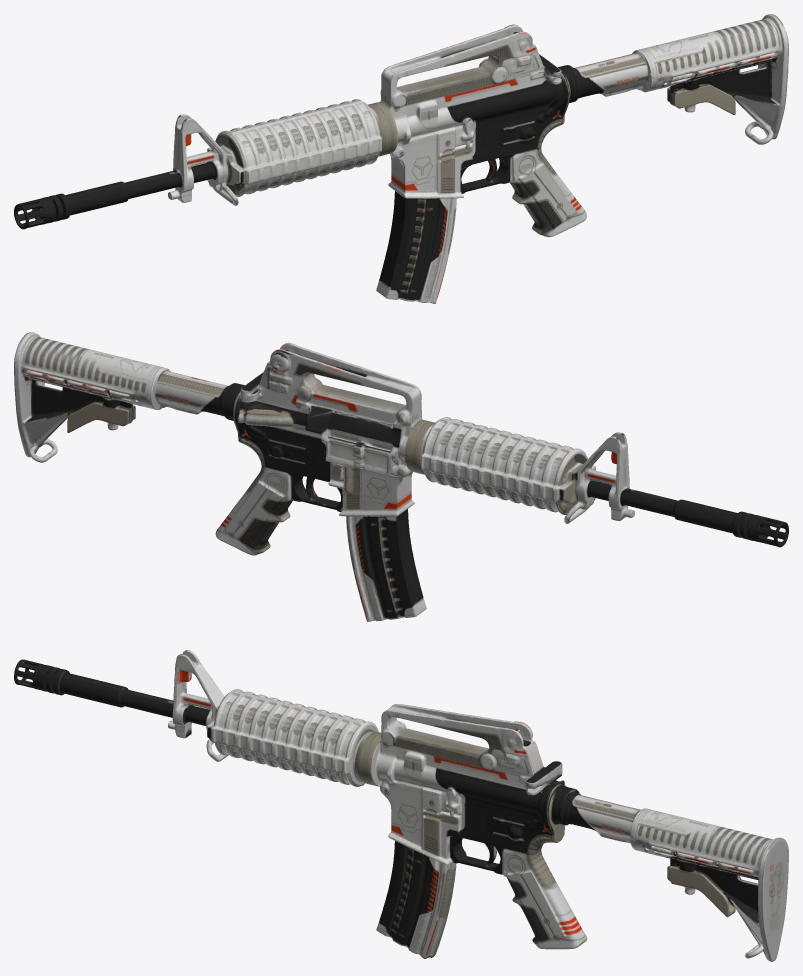
The model's file is Meshy_AI_M4A1_1014151846_texture.glb.
3 renders of one model, top to bottom at view 1: azimuth 30°, elevation 25°; view 2: azimuth 150°, elevation 25°; view 3: azimuth 330°, elevation 25°, orthographic.
Size of the model in its own units: 1.9 by 0.6012 by 0.1635.
1 material, 1 textured.
